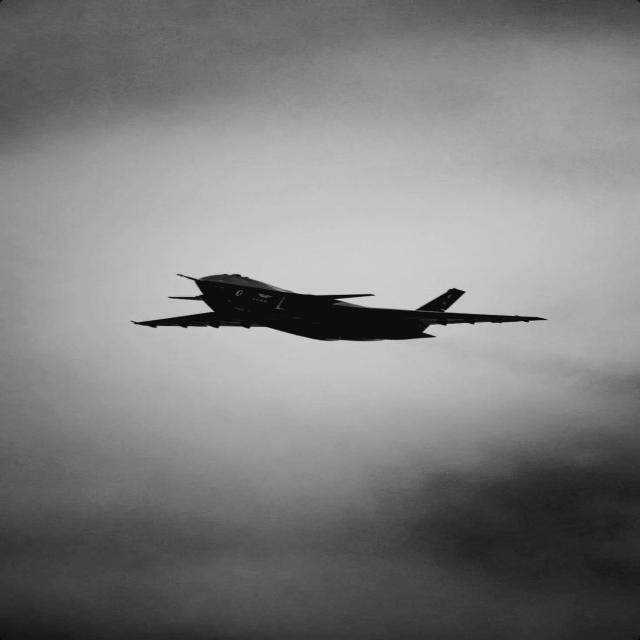iha: (131, 274, 544, 341)
